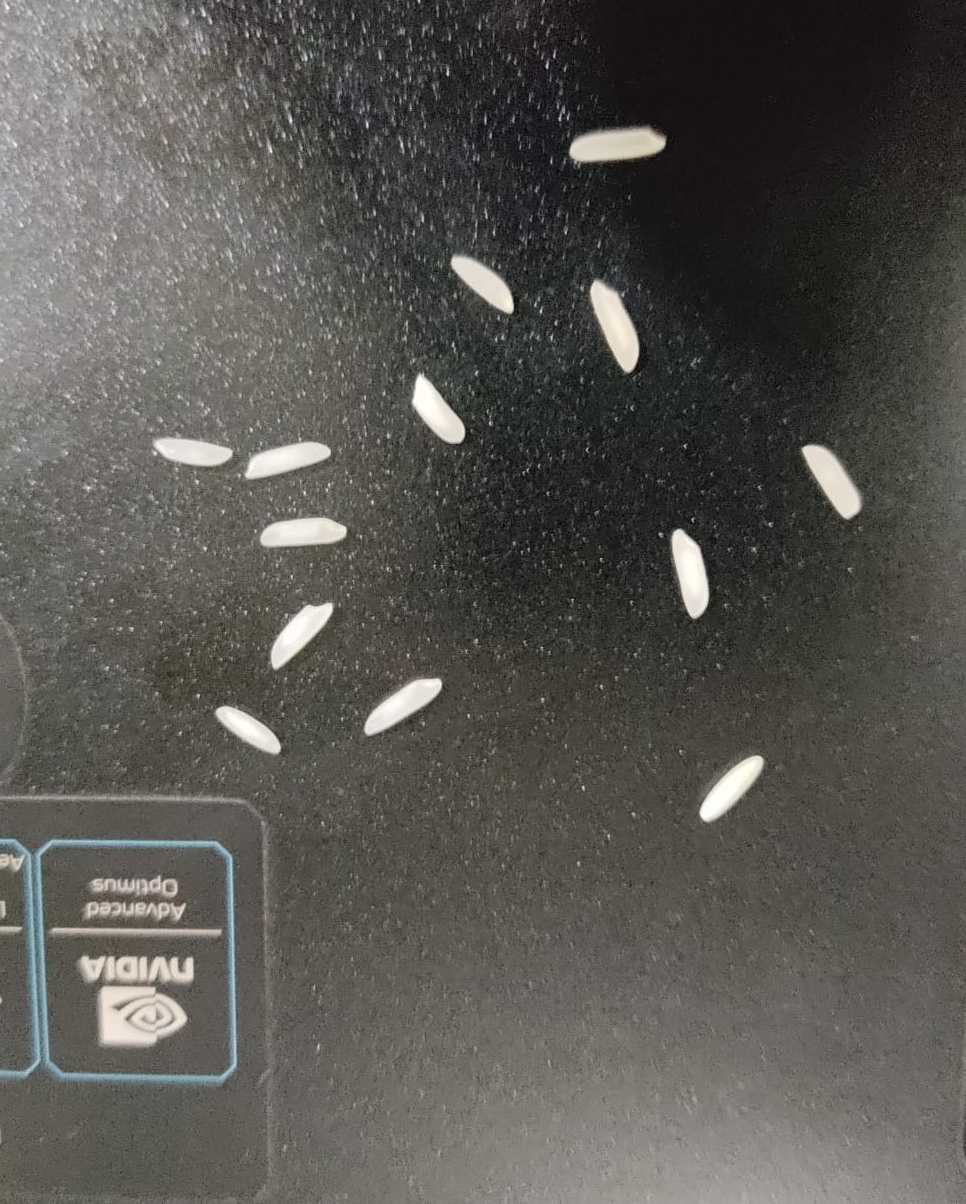broken_grain: (497, 752, 561, 844)
complete_grain: (316, 821, 387, 938), (513, 464, 608, 539), (621, 530, 707, 611), (195, 372, 269, 461), (100, 677, 169, 772), (248, 575, 305, 685), (628, 718, 729, 780), (447, 887, 522, 960), (676, 440, 754, 506), (291, 1039, 408, 1082), (732, 731, 824, 785), (615, 652, 713, 699)
